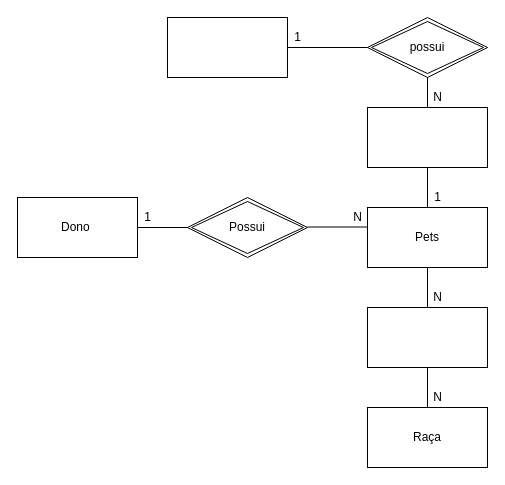
Image size: 505x485. Some labels were removed from this diagram. Each missing label, with the centre of its shape:
Clinica: (x=227, y=47)
Tipo de pets: (x=427, y=337)
Veterinario: (x=427, y=137)
